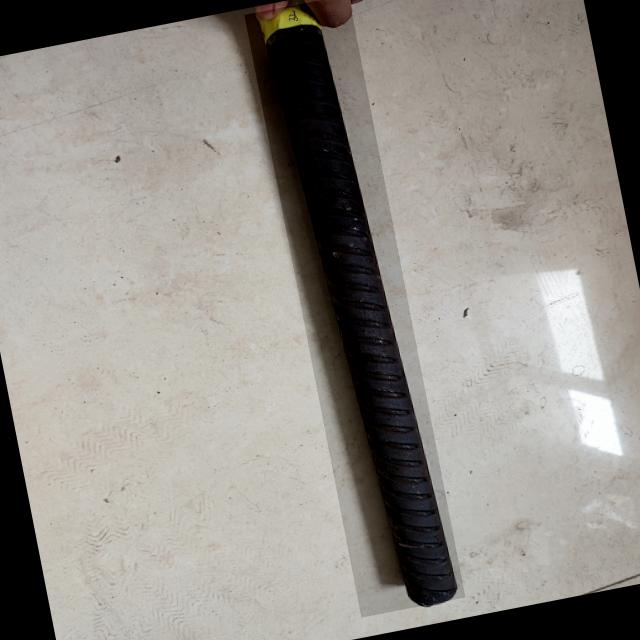ribbed bar: (245, 0, 466, 618)
